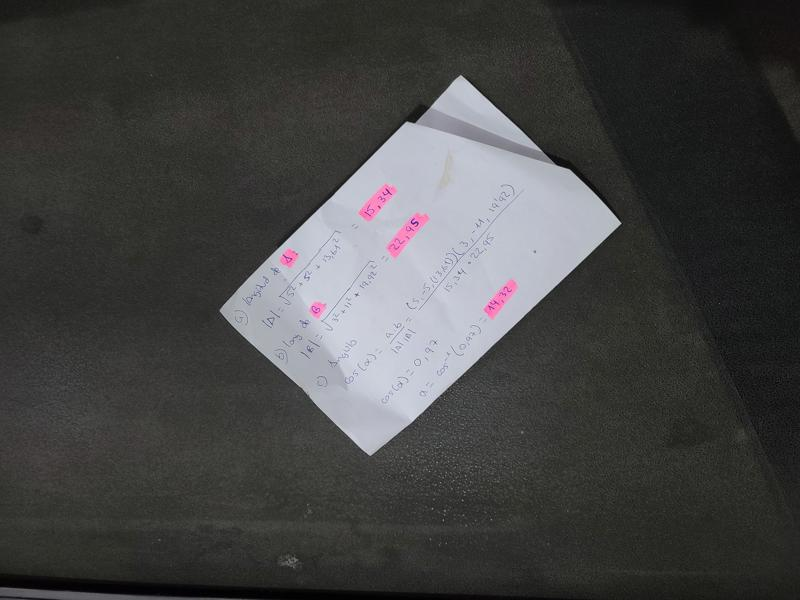papel: (219, 78, 620, 458)
